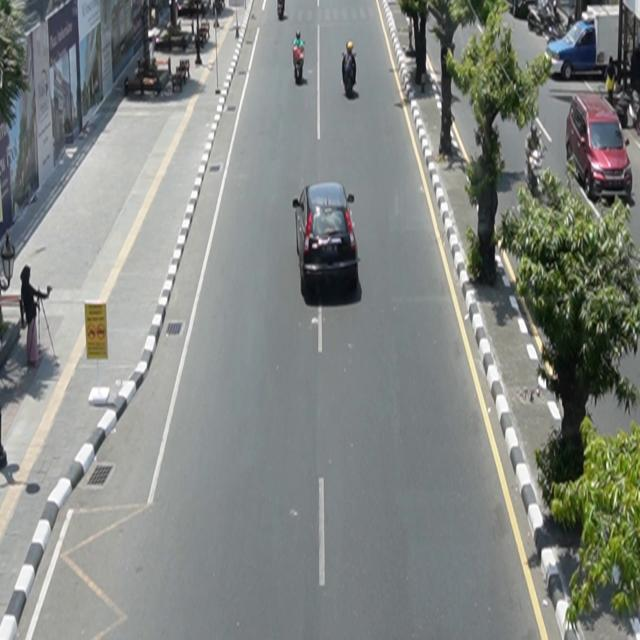car: (293, 182, 361, 293), (566, 93, 633, 203)
